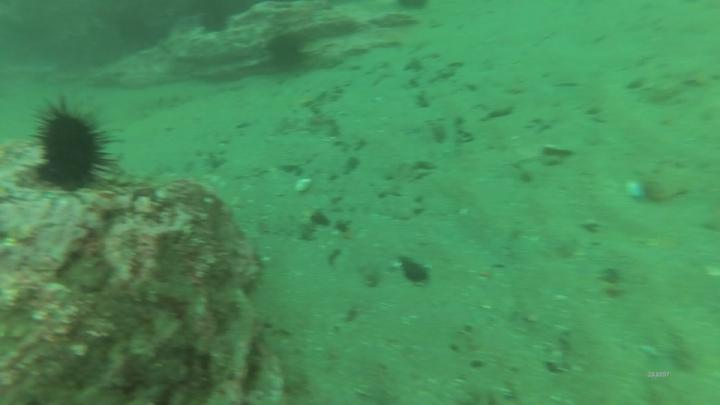echinus: (32, 104, 105, 194), (267, 34, 307, 70), (199, 9, 235, 35)
